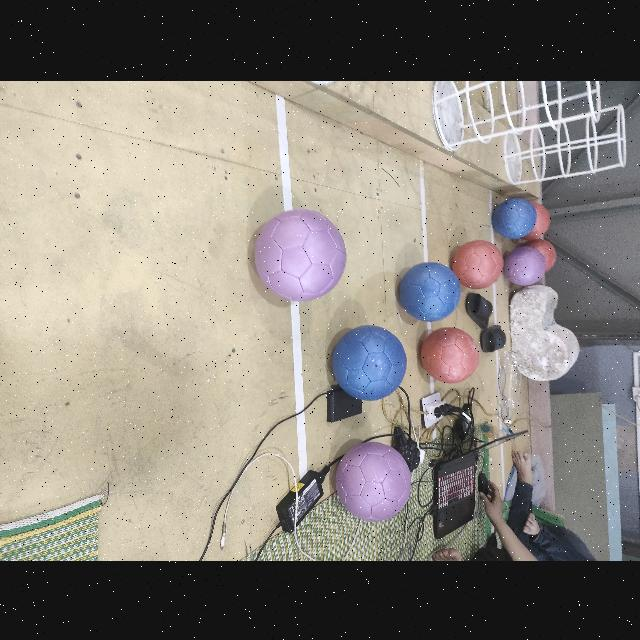B: (333, 324, 407, 400), (400, 262, 460, 321), (492, 198, 538, 238)
P: (255, 208, 347, 300), (336, 440, 412, 520), (504, 246, 546, 284)
R: (420, 326, 480, 382), (452, 240, 503, 288), (522, 201, 550, 239), (524, 238, 556, 270)
